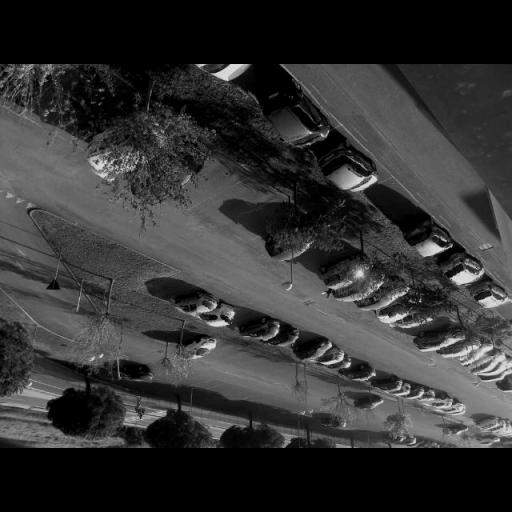busy: (88, 115, 178, 186), (245, 79, 331, 150), (131, 143, 210, 199), (314, 142, 377, 192), (261, 222, 328, 260), (400, 220, 450, 257), (317, 256, 371, 290), (435, 250, 485, 286), (388, 304, 450, 333), (169, 290, 218, 320), (416, 325, 464, 352), (356, 284, 404, 310), (466, 280, 510, 308), (196, 302, 238, 328), (460, 350, 506, 373), (238, 318, 282, 341), (292, 338, 335, 361), (440, 338, 482, 360), (182, 335, 221, 358), (262, 328, 301, 347), (339, 362, 375, 382), (121, 362, 154, 382), (479, 418, 511, 434), (368, 375, 402, 390), (473, 414, 503, 429), (420, 394, 452, 408)
free: (37, 88, 93, 130), (191, 162, 233, 192), (238, 204, 272, 234), (378, 194, 418, 216), (224, 186, 258, 209), (297, 248, 329, 270), (152, 280, 186, 296), (286, 374, 309, 392), (308, 378, 330, 396), (213, 346, 237, 362), (230, 310, 253, 324), (332, 385, 351, 399), (369, 370, 391, 382), (236, 355, 254, 368), (254, 361, 270, 373), (274, 367, 290, 379)
